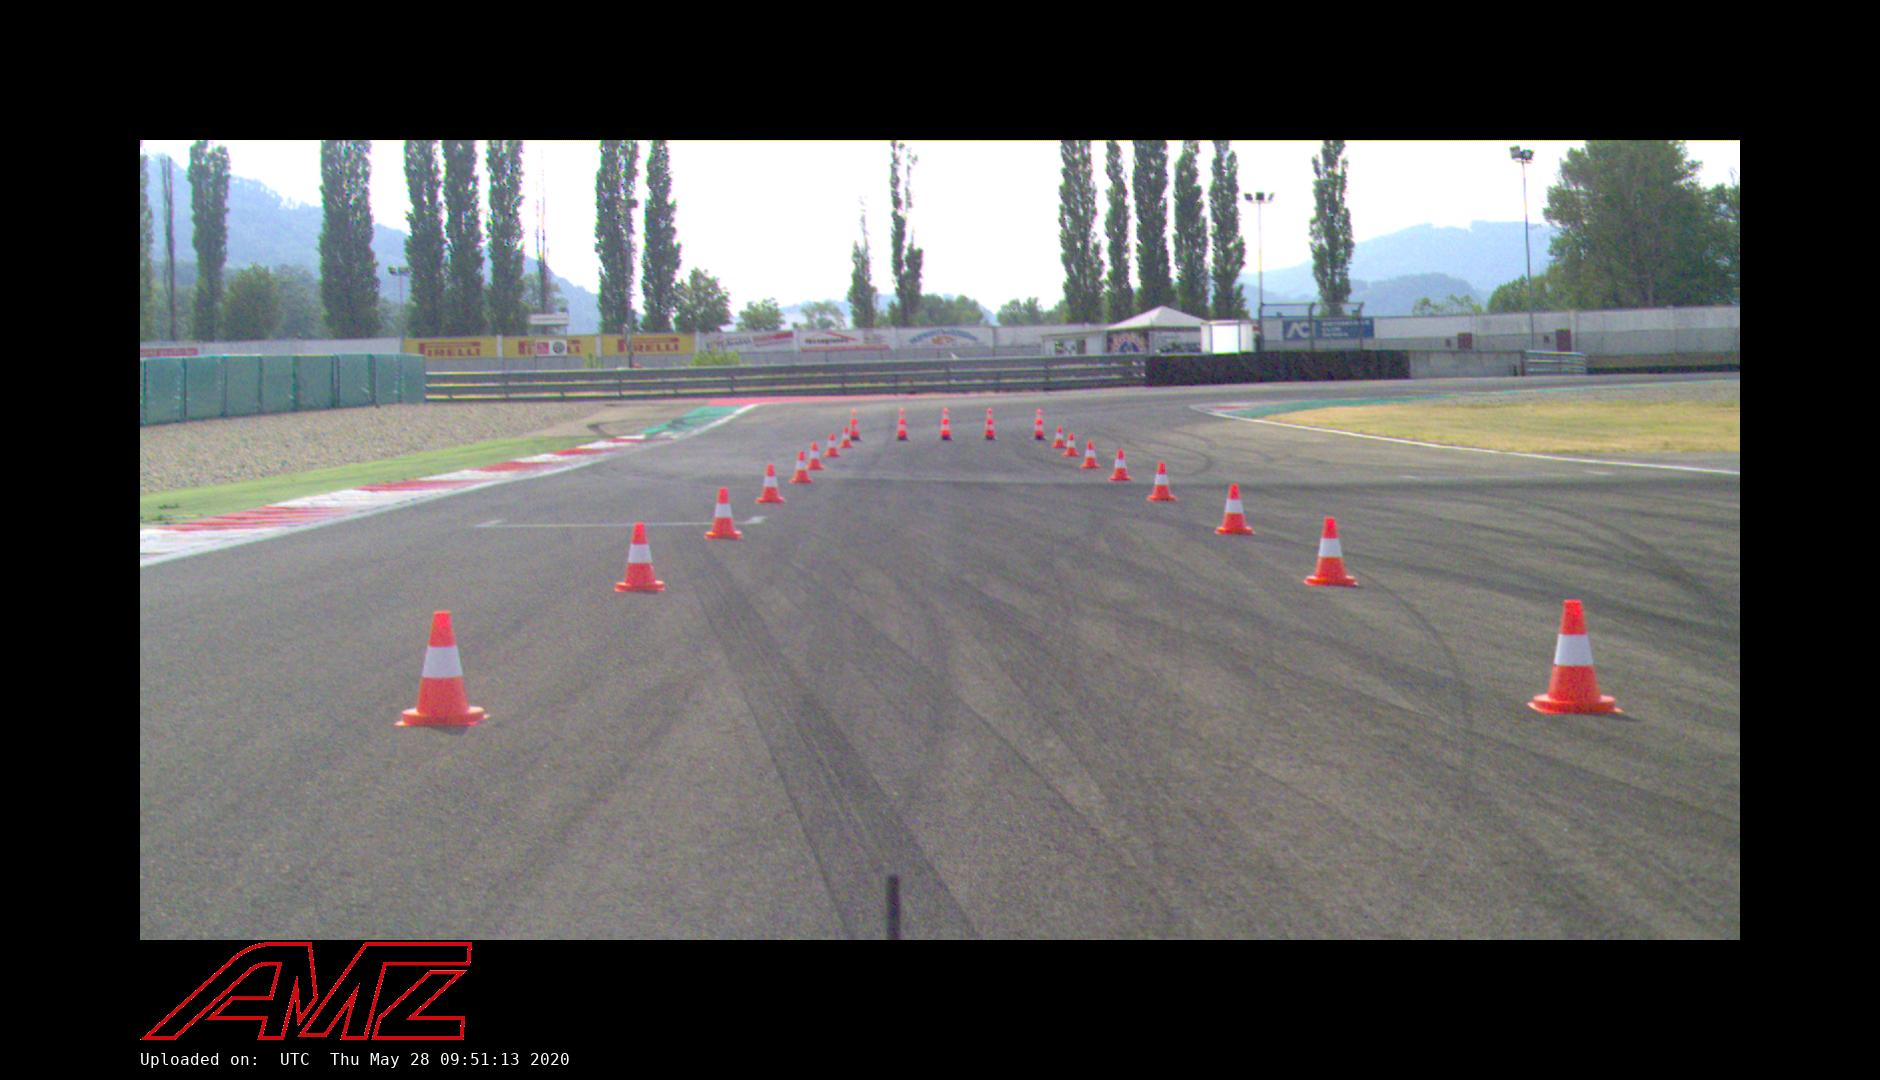large_orange_cone: (894, 410, 912, 441), (1030, 410, 1048, 441), (844, 410, 861, 442), (937, 410, 954, 441), (983, 408, 998, 441)
orange_cone: (394, 610, 489, 727), (1527, 599, 1624, 714), (1303, 517, 1358, 588), (615, 523, 666, 593), (1214, 484, 1256, 535), (704, 488, 742, 540), (755, 465, 786, 505), (1148, 462, 1176, 503), (790, 451, 813, 484), (1109, 450, 1132, 482), (804, 443, 824, 472), (1081, 442, 1100, 469), (822, 433, 841, 459), (1063, 434, 1079, 457), (838, 428, 853, 450), (1054, 428, 1067, 450)
